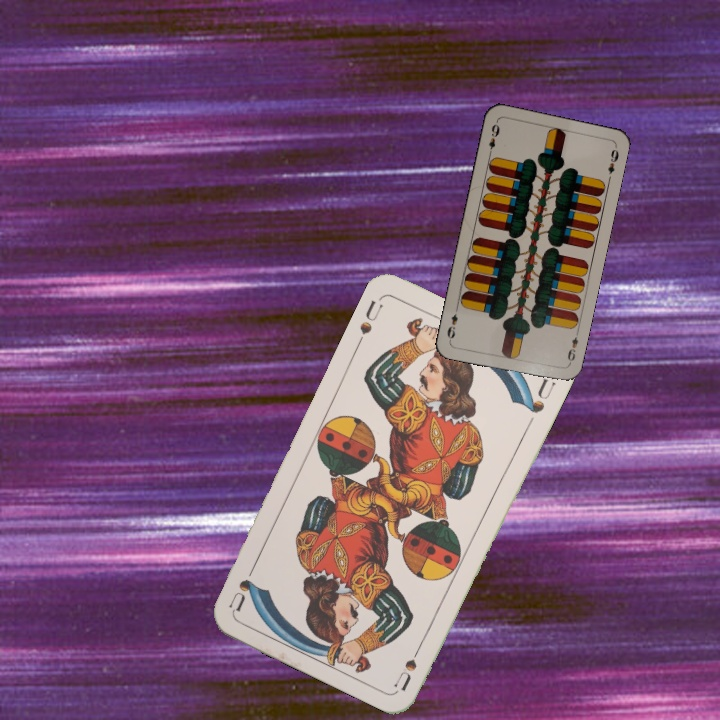E9: (484, 118, 502, 158), (563, 328, 581, 368)
SU: (390, 635, 427, 692), (355, 296, 386, 337)
